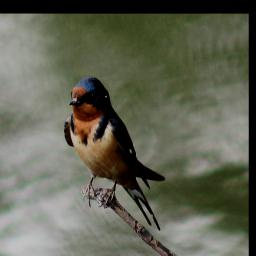Swallow: (61, 75, 162, 232)
